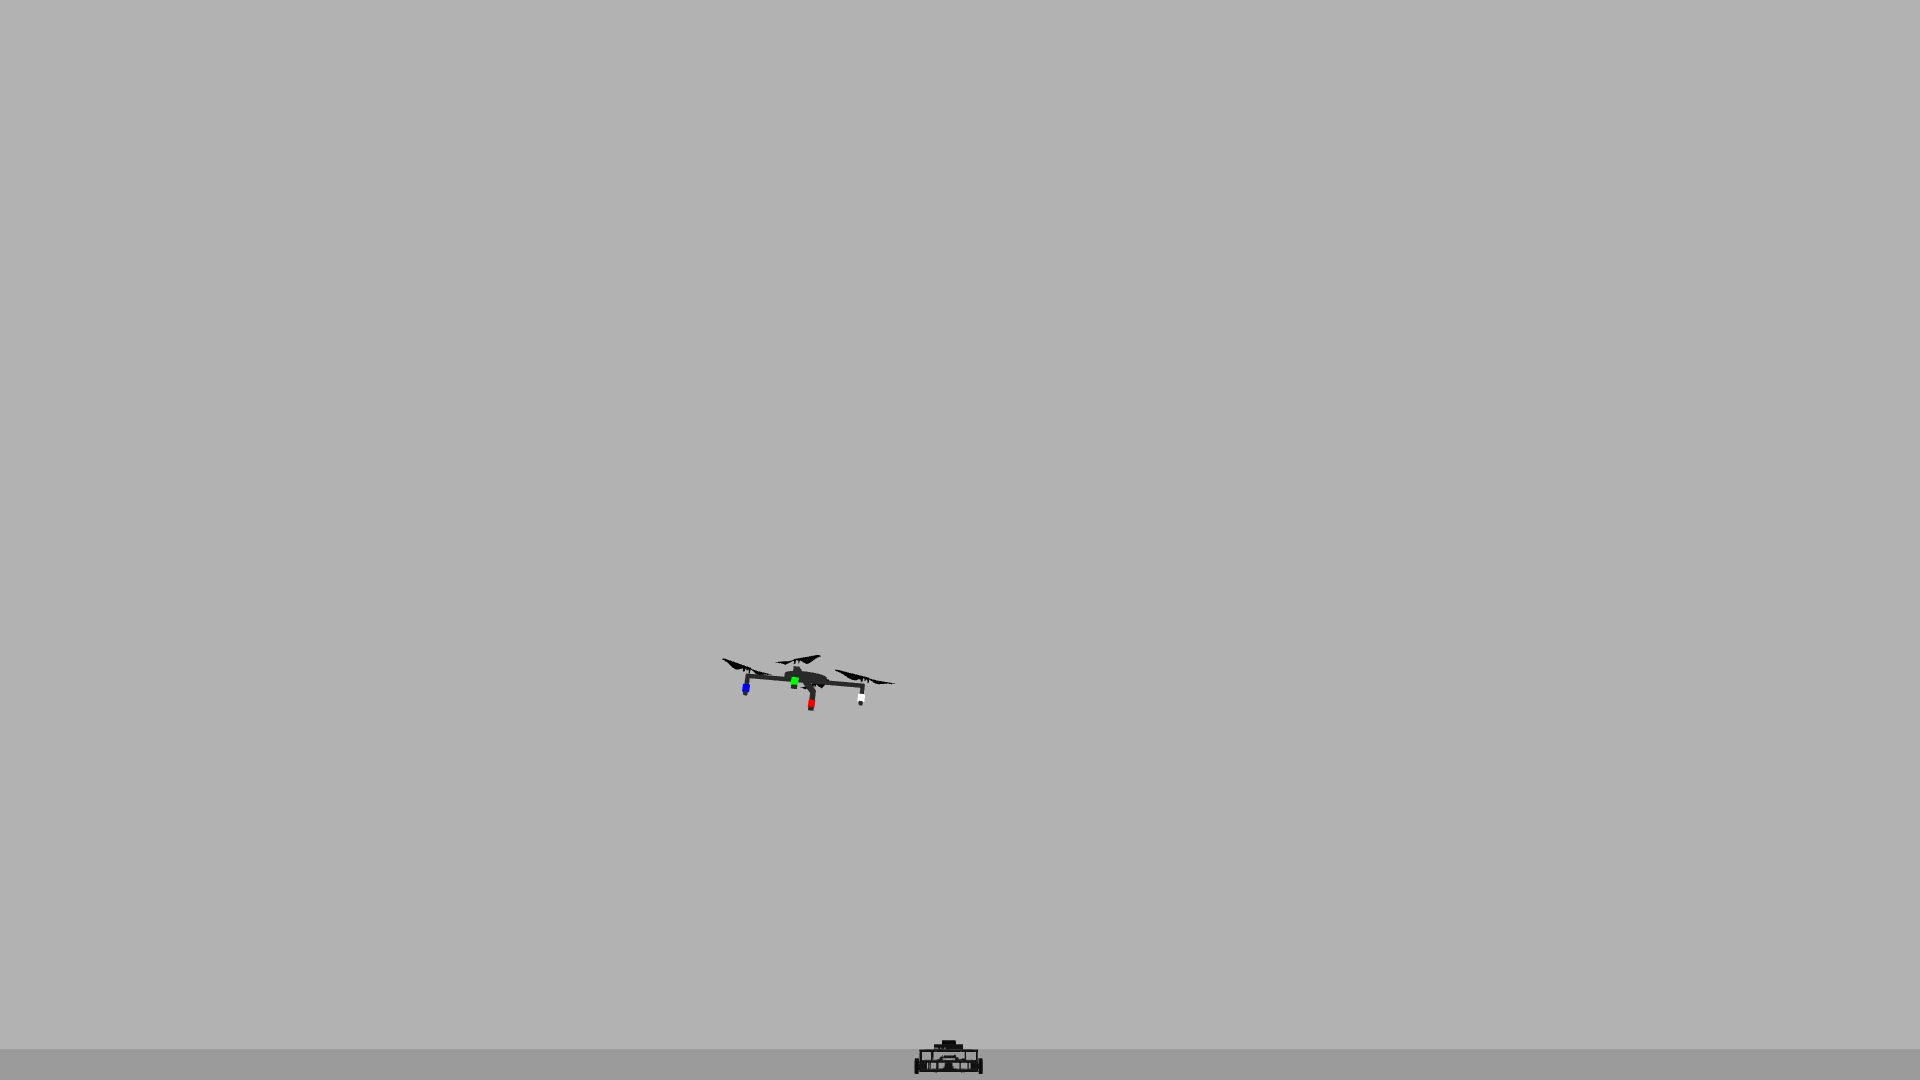drone: (716, 621, 910, 729)
